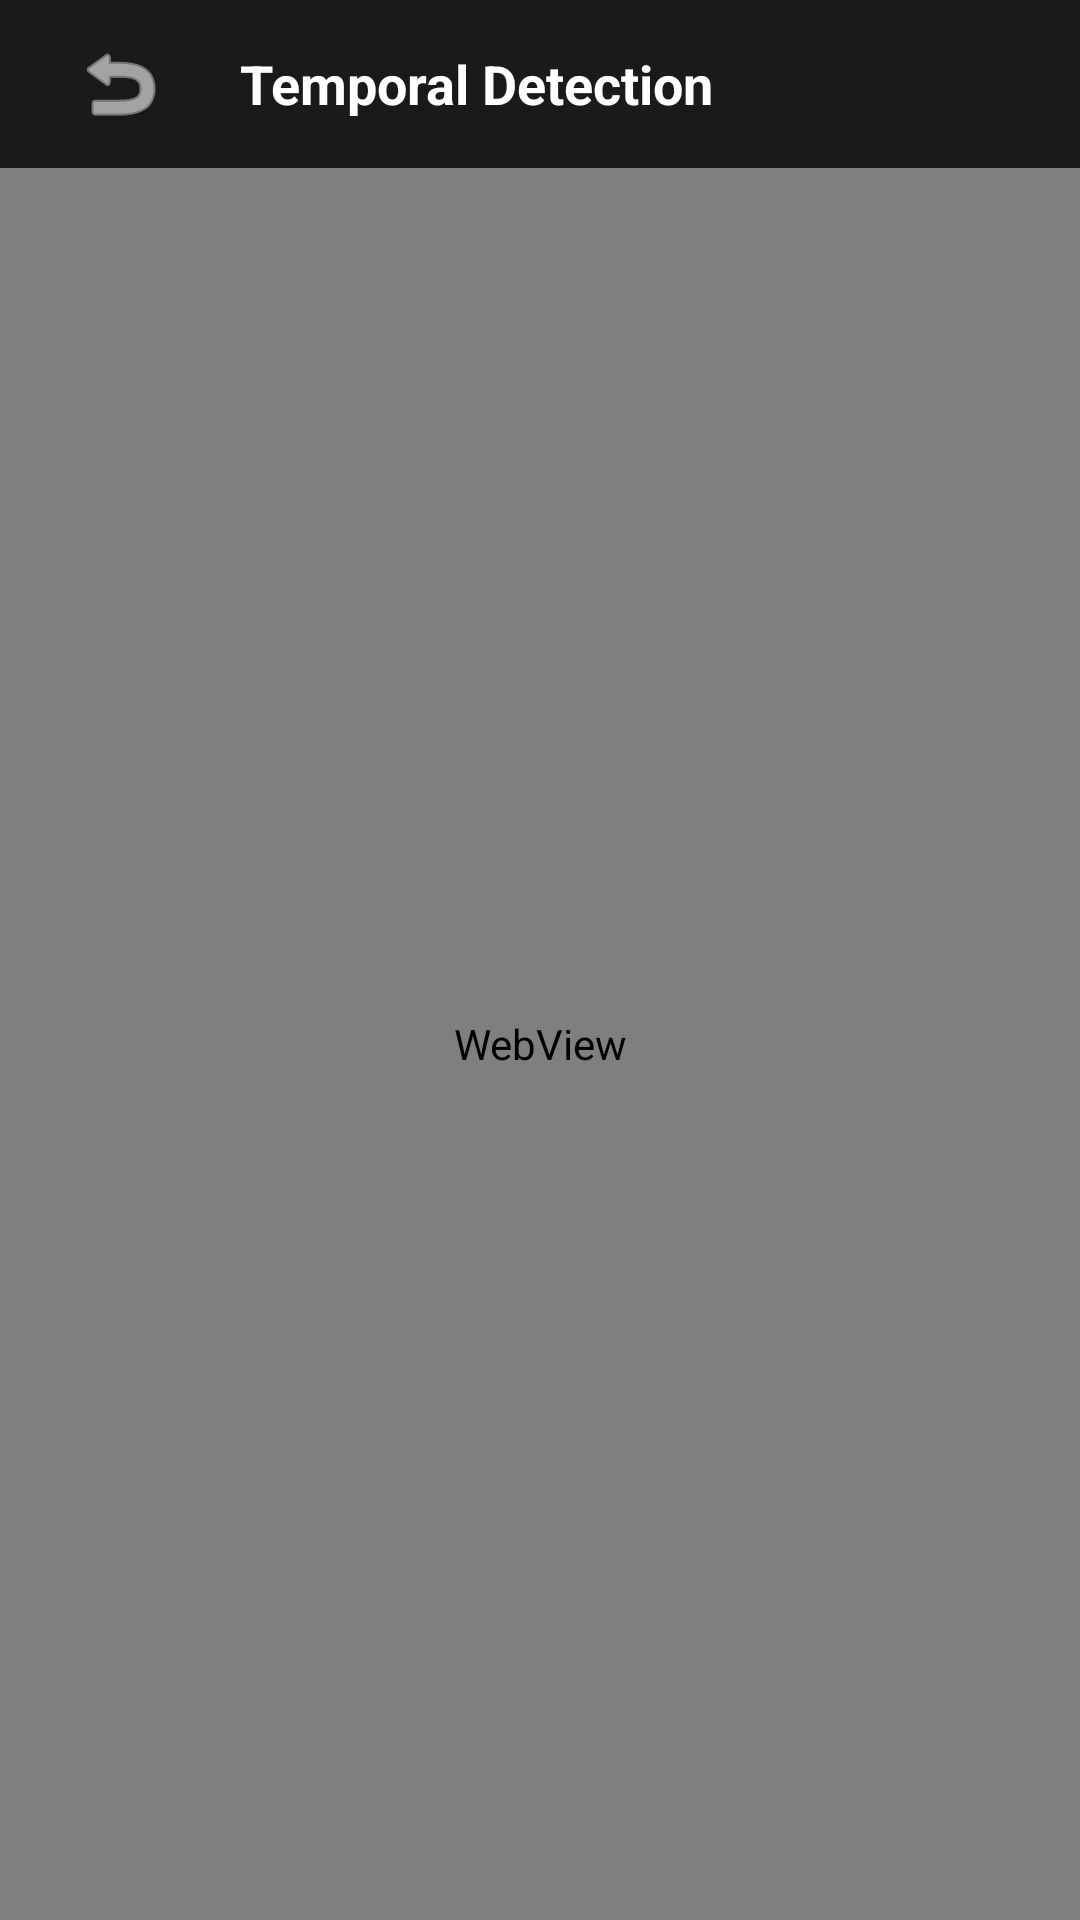

Screen size 1080x1920. Icon name, then its center in pixels as [x,y]:
revert: [121,84]
